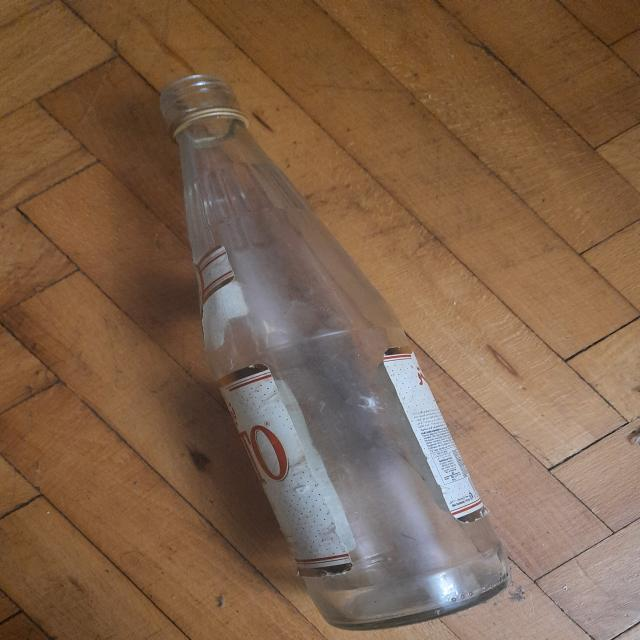glass: (88, 67, 558, 640)
